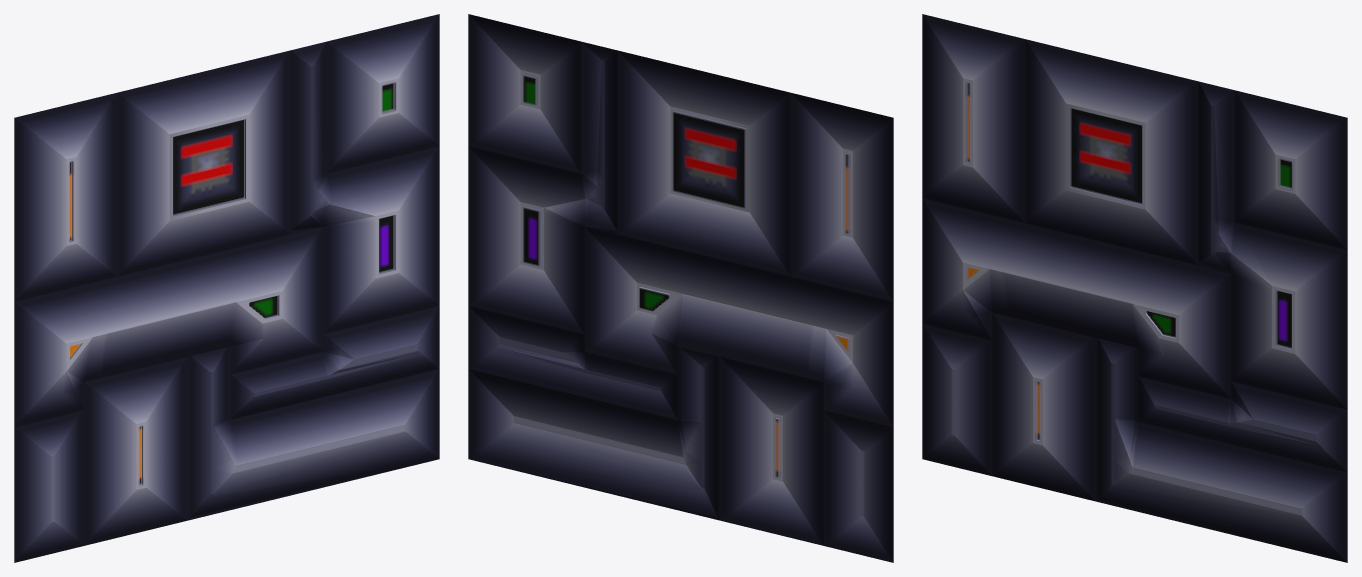
Rendered from reac4_1.fbx.
3 renders of one model, left to right at view 1: azimuth 30°, elevation 25°; view 2: azimuth 150°, elevation 25°; view 3: azimuth 330°, elevation 25°, orthographic.
Parts seen in each view (by area): view 1: reac4_1_mesh; view 2: reac4_1_mesh; view 3: reac4_1_mesh.
Part boxes in pixels (x1,y1,x2,y2): reac4_1_mesh: (14, 14, 439, 562); reac4_1_mesh: (468, 14, 893, 562); reac4_1_mesh: (922, 14, 1347, 562).
Bounding box in the file's own units: 256 × 256 × 6.
